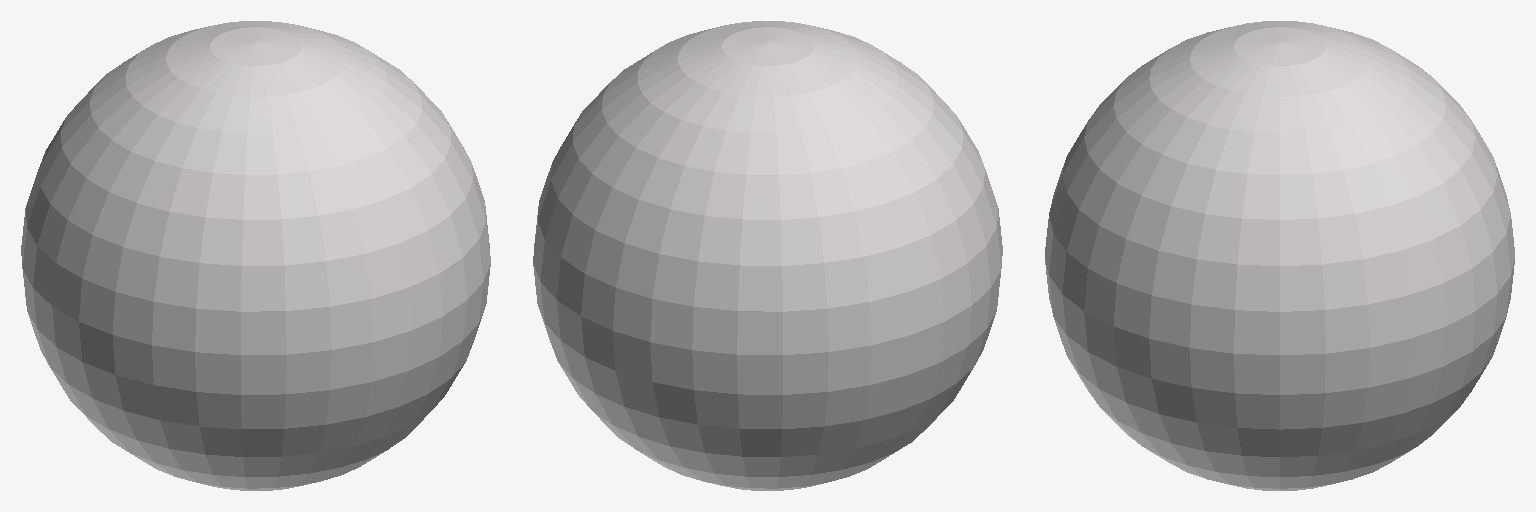
3 renders of one model, left to right at view 1: azimuth 30°, elevation 25°; view 2: azimuth 150°, elevation 25°; view 3: azimuth 270°, elevation 25°, orthographic.
Visible parts, largest first — view 1: particle_Sphere; view 2: particle_Sphere; view 3: particle_Sphere.
Part boxes in pixels (left/top/right/bottom): particle_Sphere: left=21, top=21, right=490, bottom=490; particle_Sphere: left=533, top=21, right=1002, bottom=490; particle_Sphere: left=1045, top=21, right=1514, bottom=490.
Bounding box in the file's own units: 2 × 2 × 2.
1 materials, 1 textured.